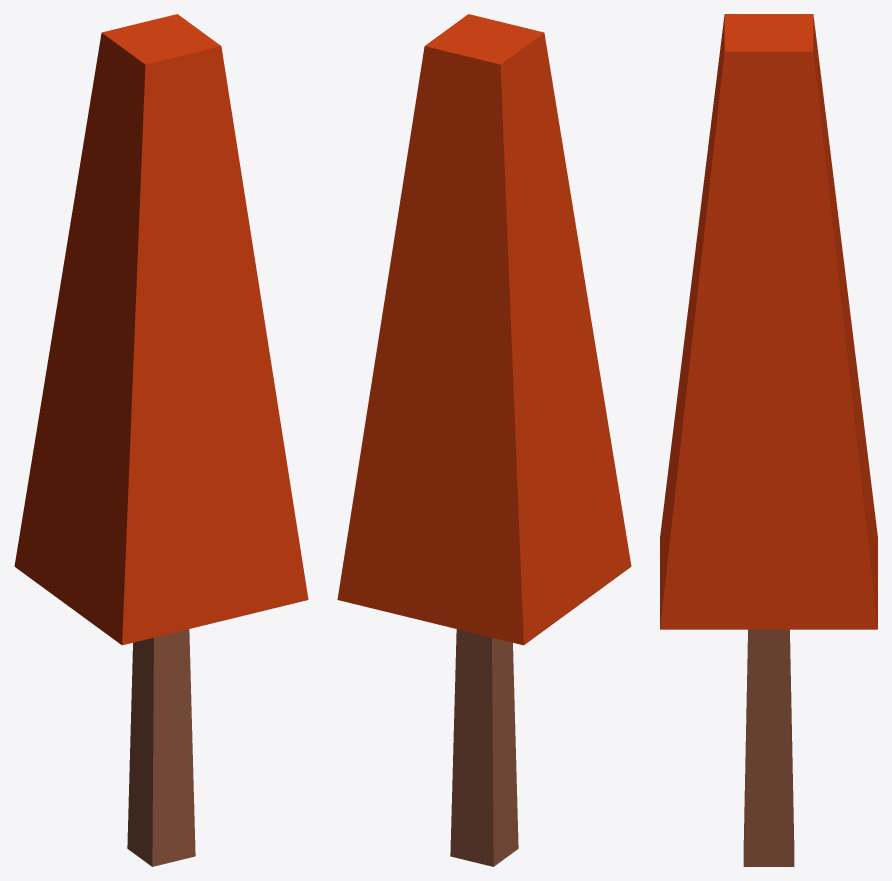
The model's file is Tree_26_summer_red_pal.fbx.
3 renders of one model, left to right at view 1: azimuth 30°, elevation 25°; view 2: azimuth 150°, elevation 25°; view 3: azimuth 270°, elevation 25°, orthographic.
Parts seen in each view (by area): view 1: Tree_26_summer_red_pal; view 2: Tree_26_summer_red_pal; view 3: Tree_26_summer_red_pal.
Boxes of the visible parts, left/top/right/bottom form: Tree_26_summer_red_pal: left=14, top=14, right=308, bottom=866; Tree_26_summer_red_pal: left=337, top=14, right=631, bottom=866; Tree_26_summer_red_pal: left=660, top=14, right=877, bottom=866.
Bounding box in the file's own units: 63.19 × 263 × 63.19.
